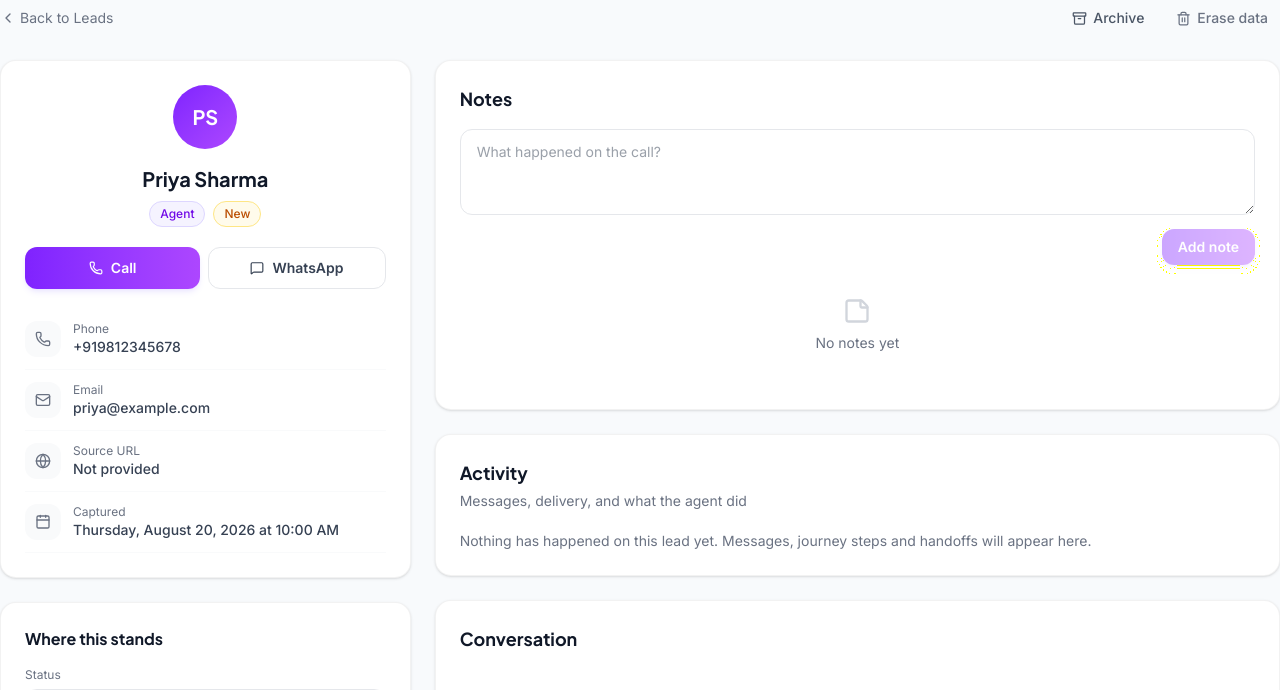
Test: erasing a lead › leaves the lead alone when the operator backs out
The image size is (1280, 690).
Expected: the heading "Priya Sharma" is shown, left=142, top=166, right=268, bottom=191
Click the button "Erase data" at (1222, 18), box left=1164, top=0, right=1279, bottom=36
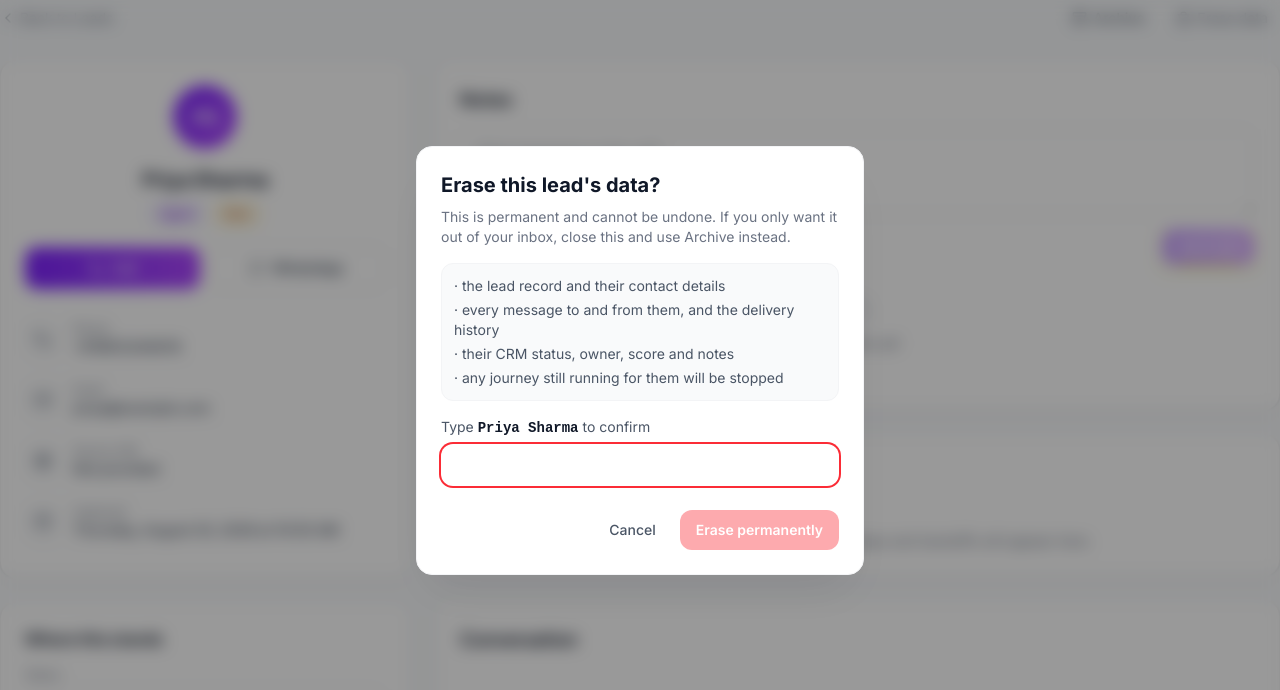
Click the button "Cancel" at (633, 530), box left=597, top=512, right=668, bottom=548
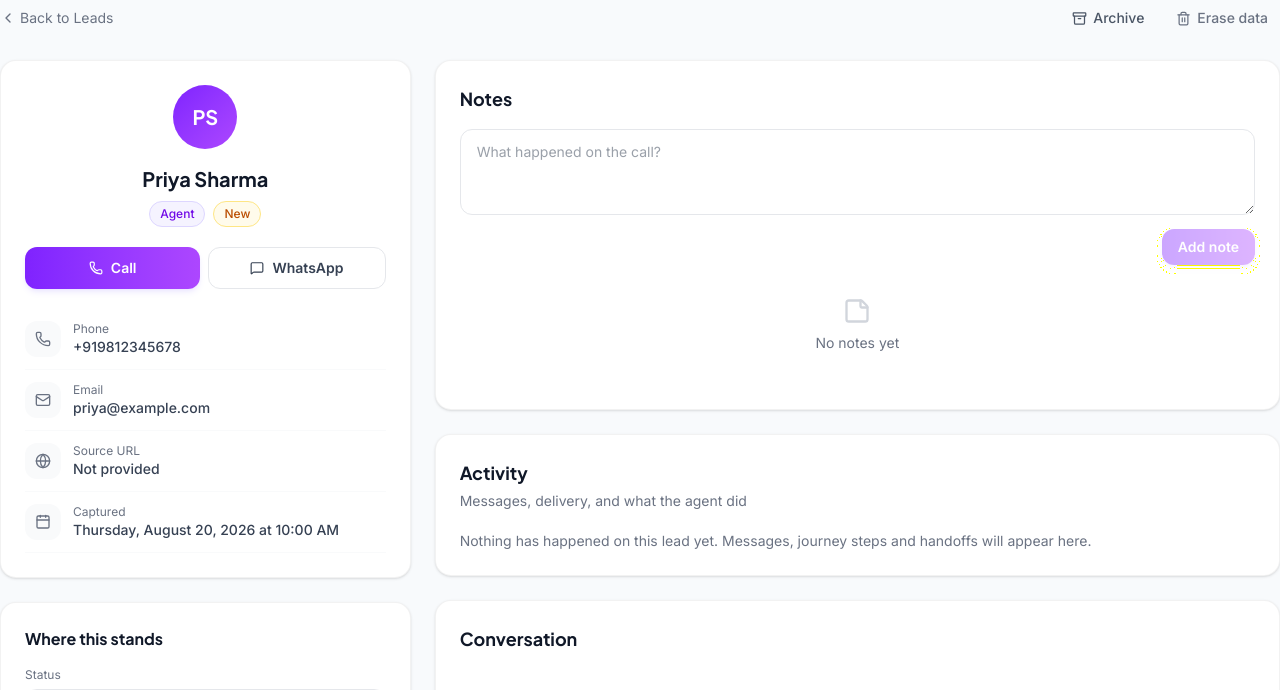
Expected: the button "Erase permanently" is gone
